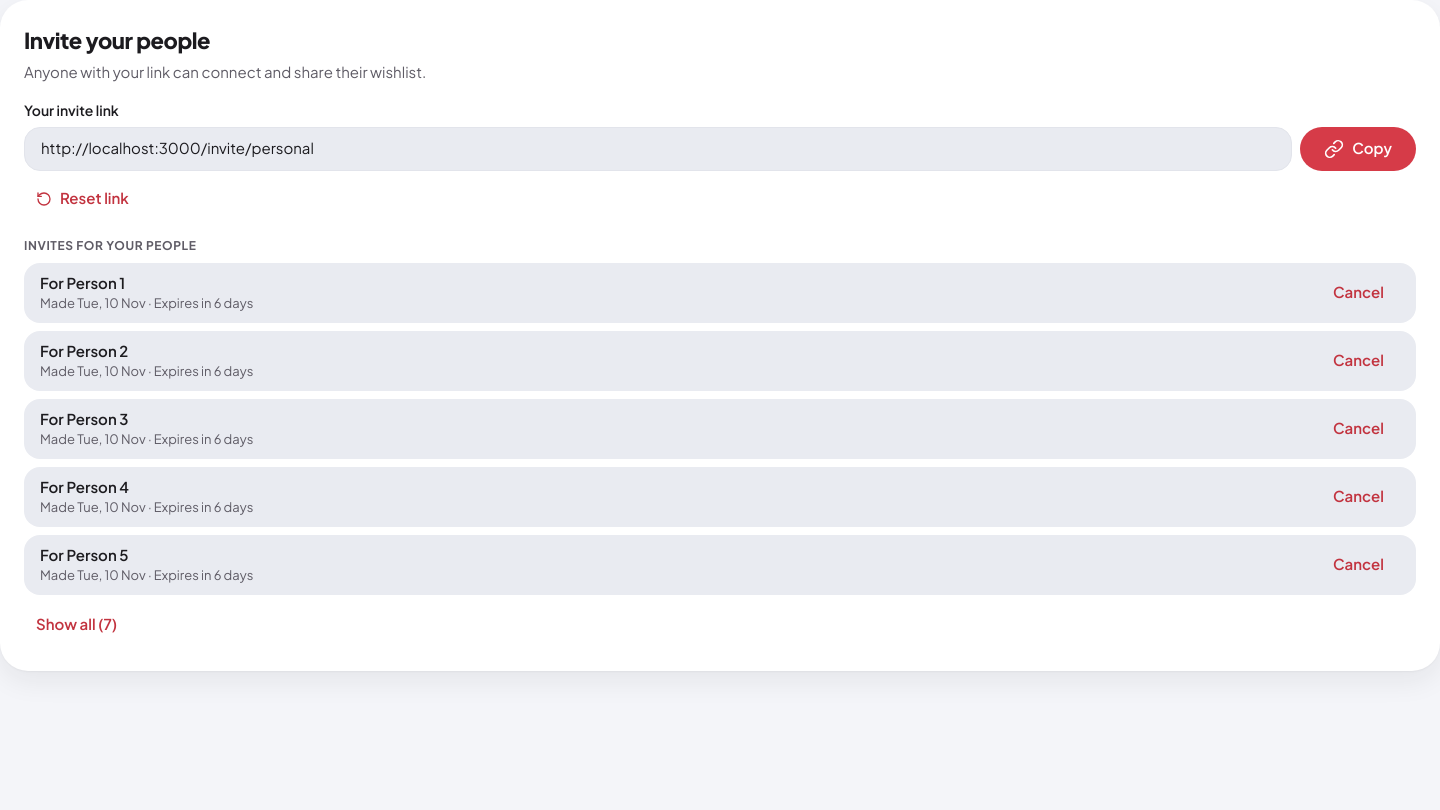
Scenario: Connections on Profile › open invites: the newest 5, then Show all
Expected: the text "For Person 1" is shown 5 times, [40,272,125,292]; [40,340,128,360]; [40,408,128,428]; [40,476,129,496]; [40,544,128,564]
Expected: the text "For Person 1" is shown, [40,272,125,292]
Click the button "Show all (7)" at coordinates (77, 624), box [24,602,129,646]
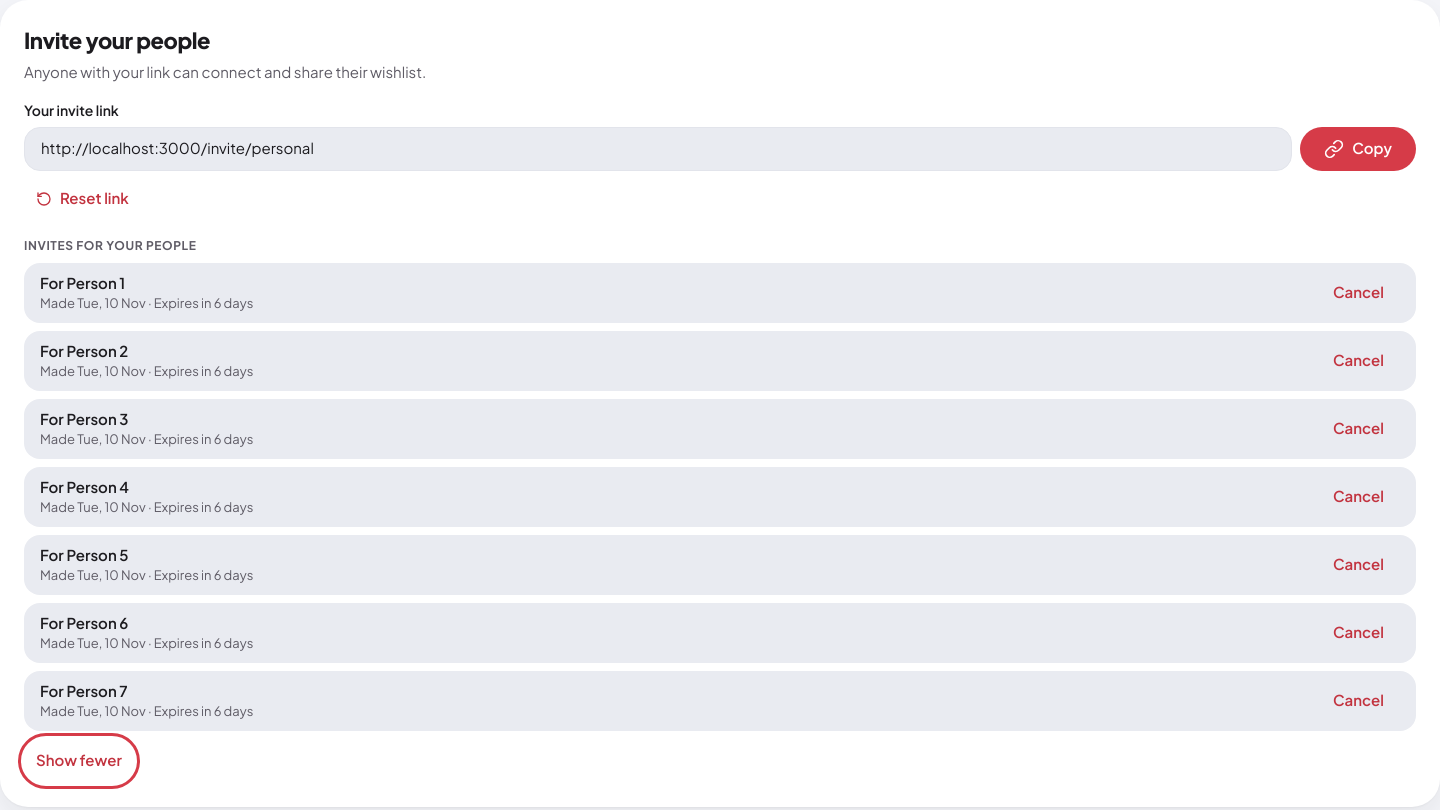
Expected: the text "For Person 1" is shown 7 times
Expected: the button "Show fewer" is expanded, [24,738,134,782]
